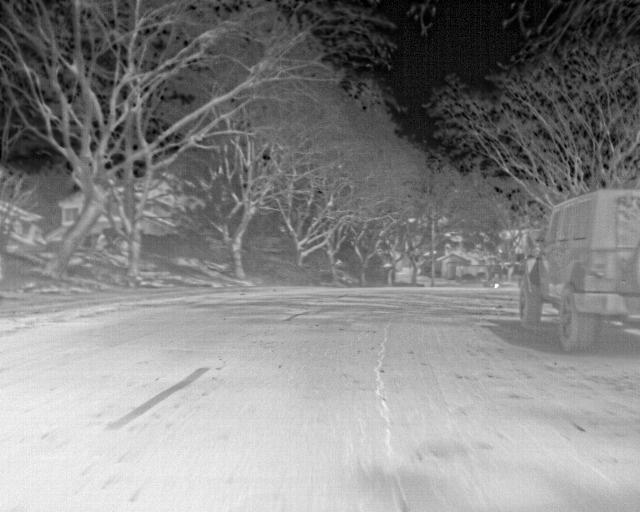car: (516, 190, 639, 356)
